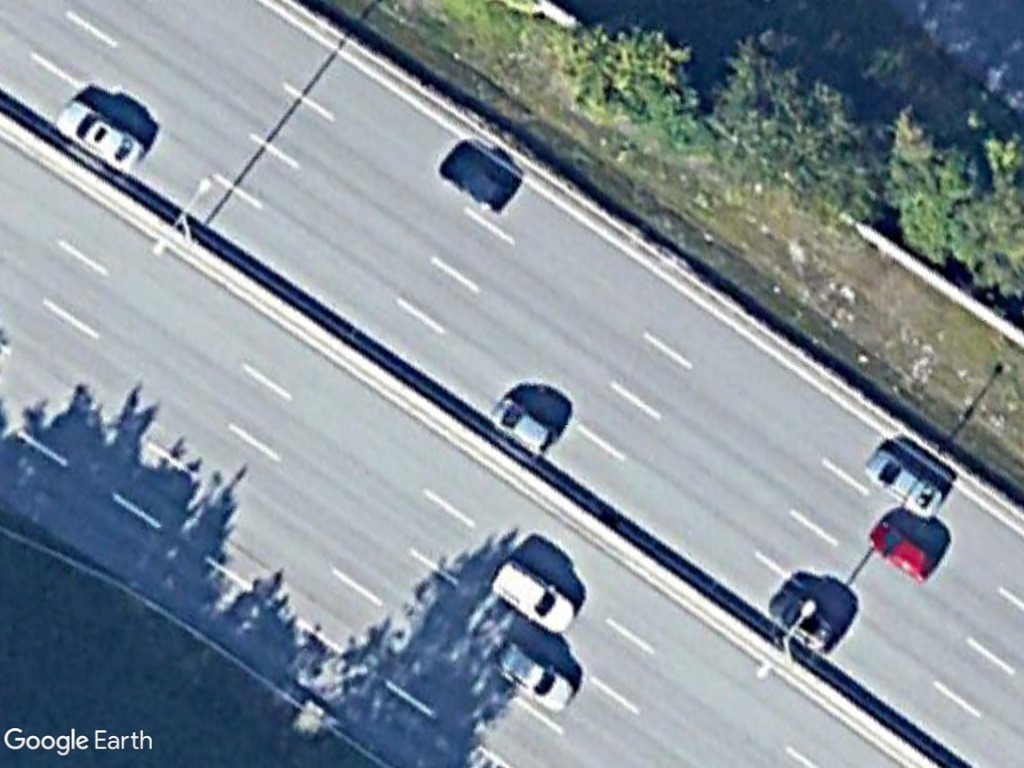car: (53, 93, 153, 177), (493, 637, 579, 712), (860, 442, 944, 517), (485, 395, 565, 459), (867, 513, 938, 581)
van: (492, 555, 586, 636)
